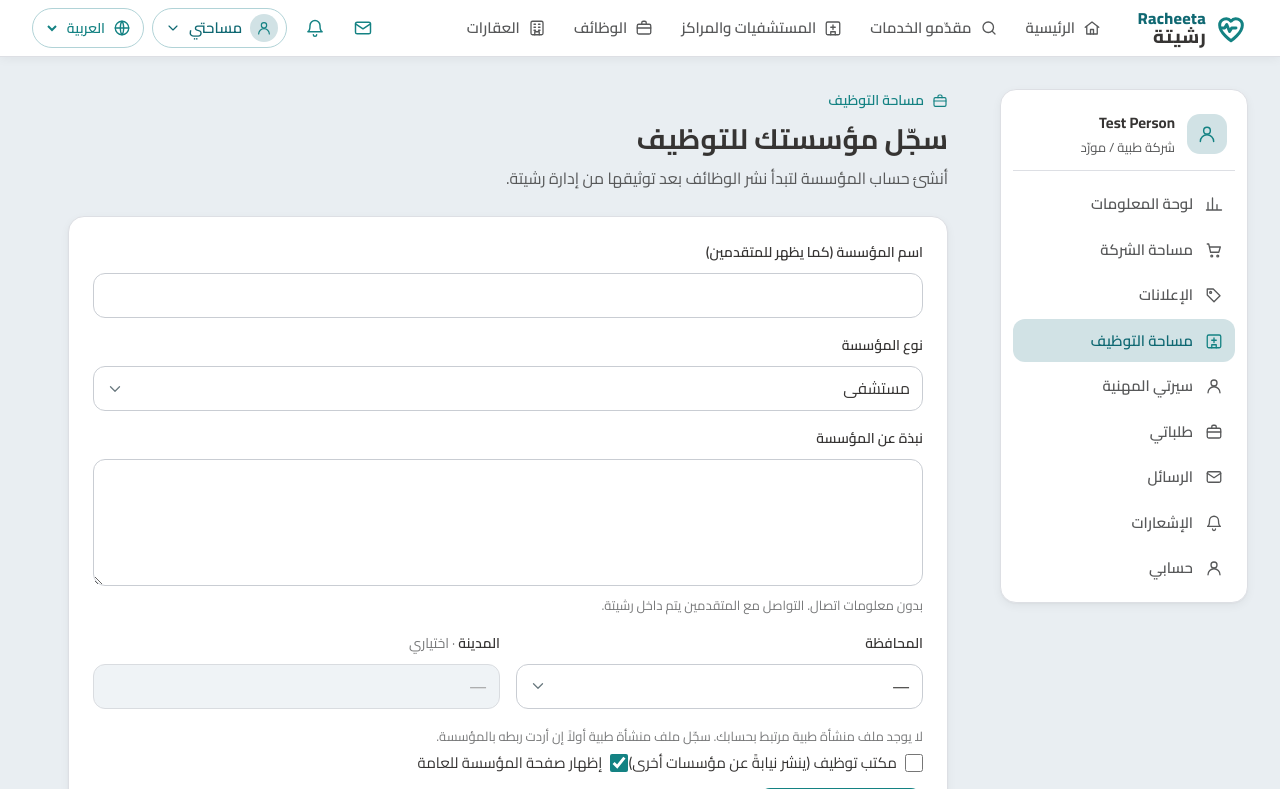
it: EmployerWorkspacePage › onboards an account without an organisation
Expected: the heading "سجّل مؤسستك للتوظيف" is shown, [636,113,948,165]
Type "مستشفى الأمل" into the field labelled "اسم المؤسسة (كما يظهر للمتقدمين)" at (508, 296), box [93,273,923,318]
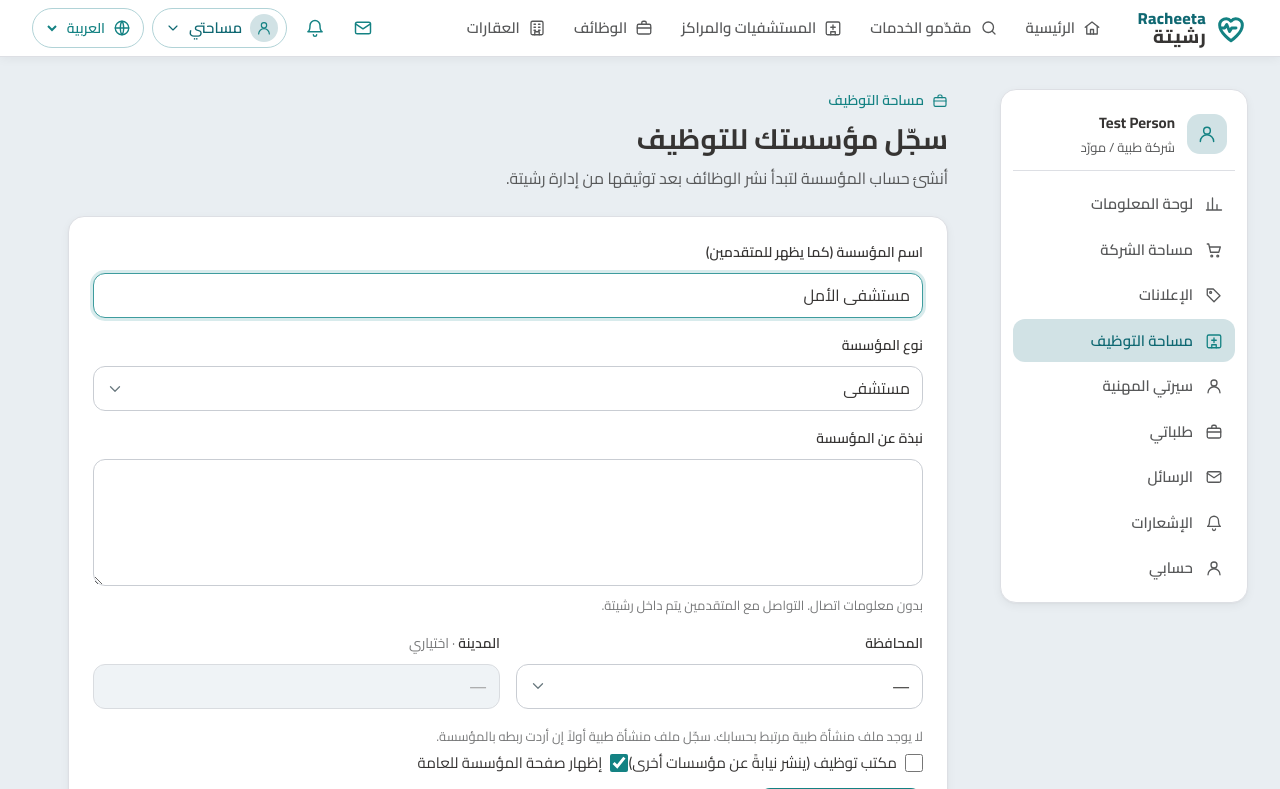
Select "بغداد" in the dropdown labelled "المحافظة" at (720, 686), box [516,664,923,709]
(page scrolled)
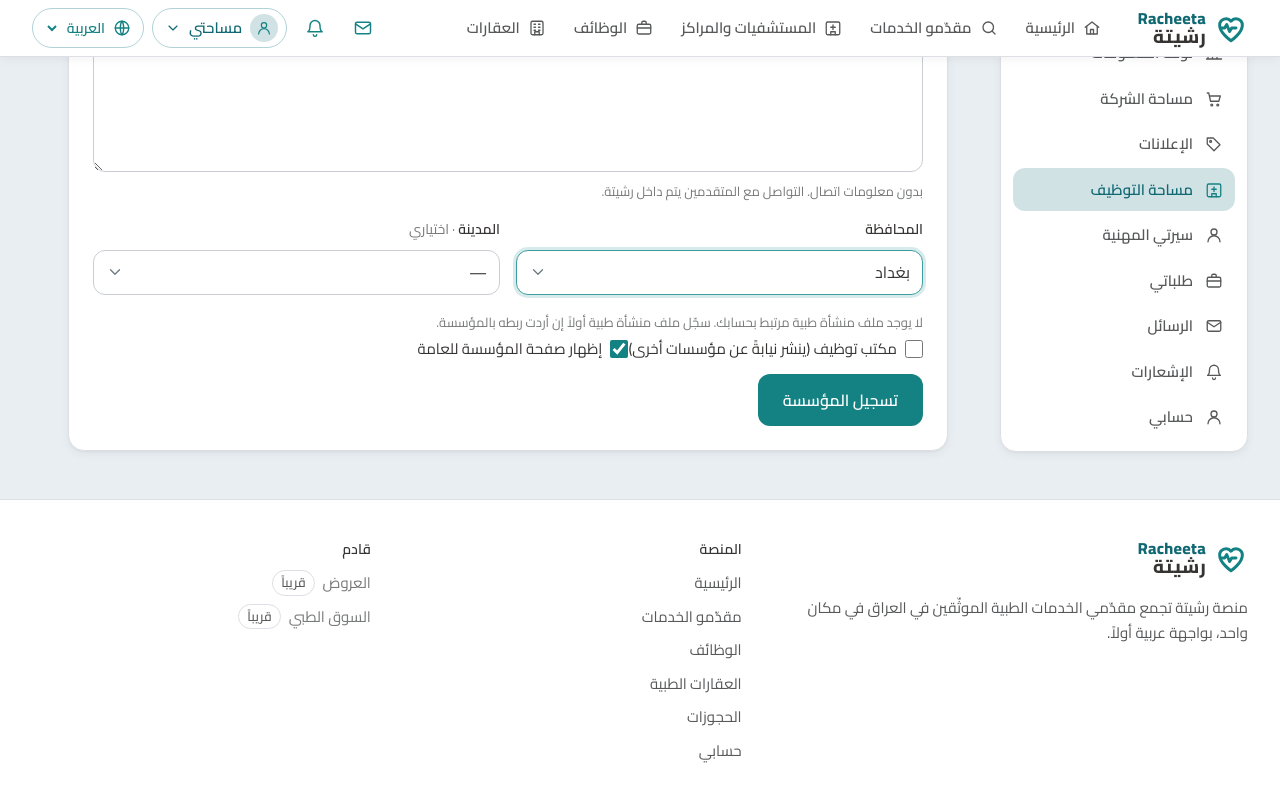
Click the button "تسجيل المؤسسة" at (840, 400), box [758,374,923,426]
(page scrolled)
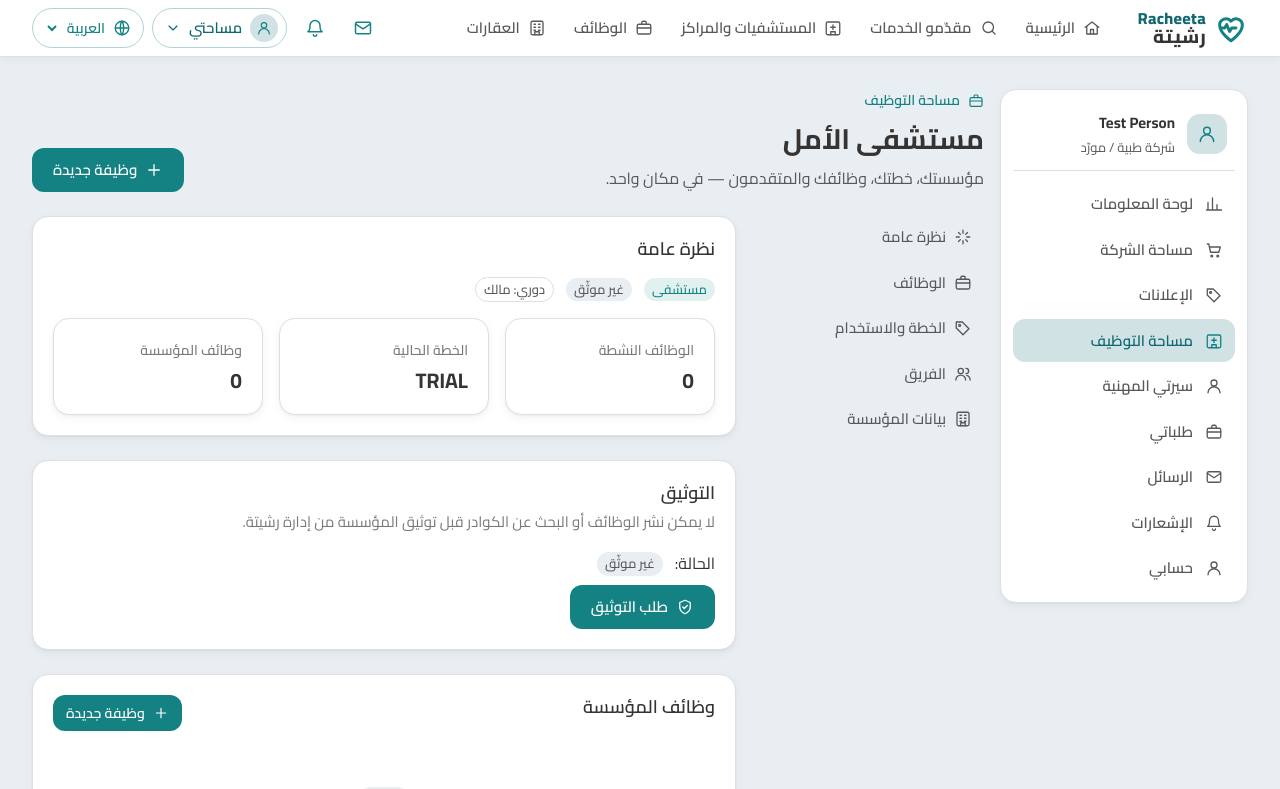
Result: the heading "مستشفى الأمل" is shown at [783,113,984,165]
